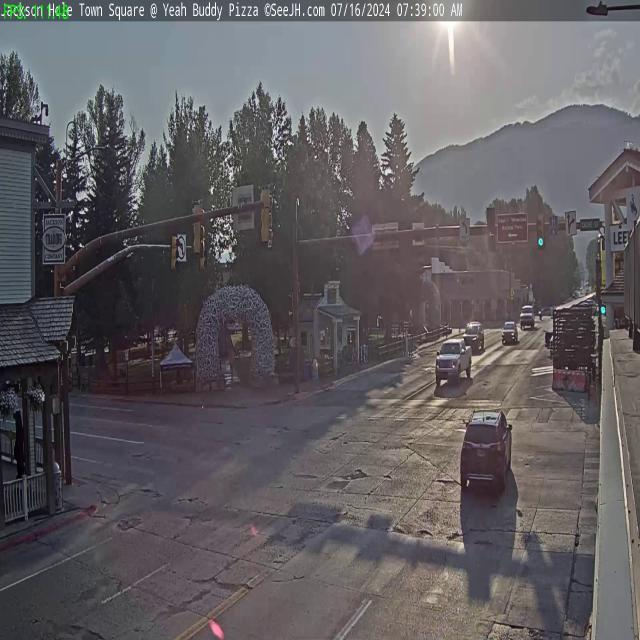pickup: (436, 336, 472, 384)
sedan: (501, 320, 519, 343)
suv: (458, 406, 514, 493), (463, 320, 485, 350), (520, 304, 536, 328)
traffic light: (260, 184, 273, 244), (191, 199, 204, 257), (486, 207, 496, 250), (170, 235, 180, 272), (536, 214, 546, 248), (199, 235, 208, 272)
